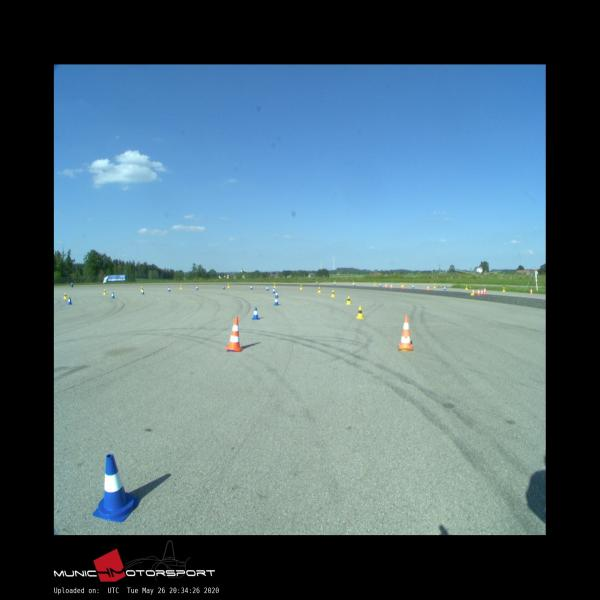blue_cone: (93, 454, 140, 522), (252, 308, 259, 320), (274, 296, 278, 306), (68, 296, 72, 305), (274, 291, 278, 298), (111, 292, 115, 298), (272, 288, 276, 293), (250, 284, 253, 290), (141, 290, 145, 294), (266, 286, 269, 291), (195, 285, 198, 290), (412, 284, 415, 289), (444, 286, 446, 291), (223, 285, 225, 289), (168, 287, 170, 291)
large_orange_cone: (225, 317, 243, 352), (398, 316, 413, 350)
orange_cone: (480, 288, 484, 294), (483, 288, 487, 294), (477, 289, 480, 295), (530, 289, 533, 294), (427, 286, 430, 290)
yellow_cone: (356, 306, 363, 318), (346, 296, 352, 305), (331, 290, 335, 297), (64, 293, 68, 299), (103, 289, 107, 294), (300, 284, 303, 290), (318, 286, 321, 292), (470, 290, 473, 296), (140, 286, 143, 291), (180, 284, 183, 289), (433, 283, 436, 288), (227, 284, 230, 288), (503, 286, 505, 292), (465, 285, 468, 289), (274, 283, 276, 288)
